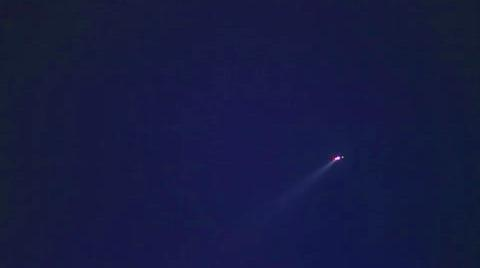Plane: (288, 145, 359, 190)
